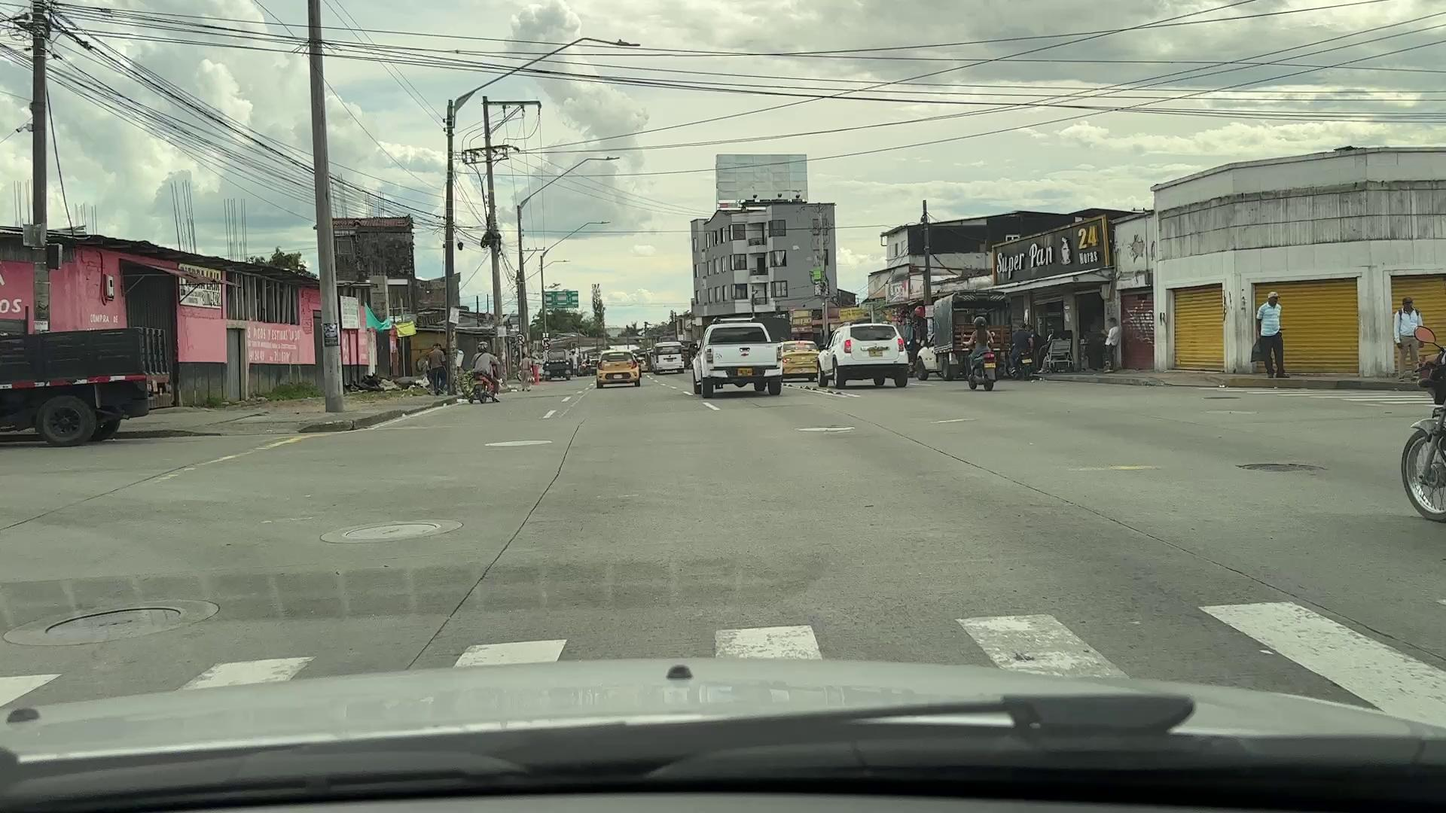registro: (46, 607, 180, 635), (342, 522, 441, 539), (1236, 463, 1326, 471), (485, 440, 553, 446), (794, 426, 855, 431)
